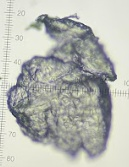microplastic: (6, 13, 117, 158)
